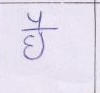ai_matra: (28, 11, 47, 28)
